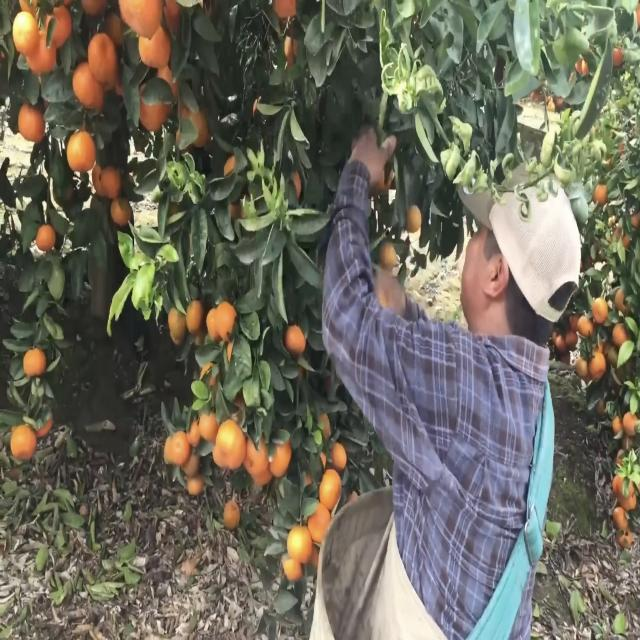Jeruk Sudah Matang: (85, 28, 127, 92), (136, 22, 176, 78), (212, 416, 248, 476), (10, 6, 45, 66), (62, 126, 100, 175), (89, 156, 125, 204), (282, 522, 317, 571), (16, 95, 48, 148), (212, 295, 242, 343), (8, 420, 38, 466), (318, 464, 344, 509), (282, 320, 310, 358), (22, 345, 50, 380), (182, 298, 206, 336), (109, 193, 135, 226), (33, 223, 58, 253)
